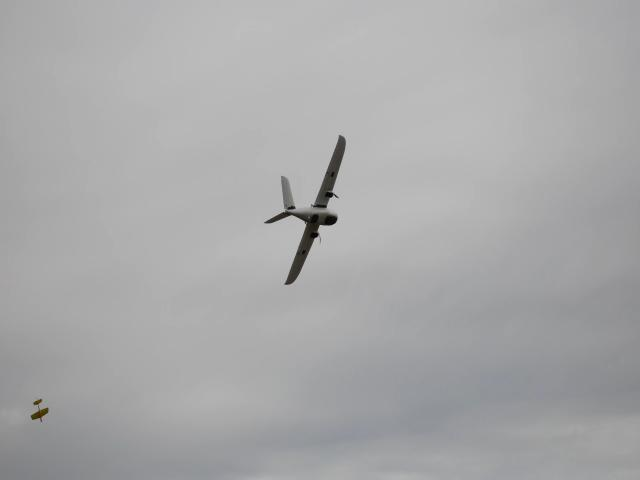plane: (262, 136, 347, 285), (30, 399, 49, 424)
